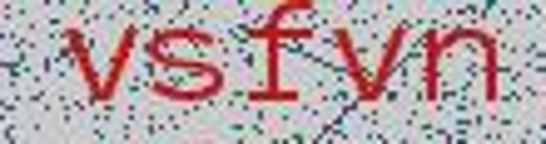f: (236, 2, 320, 115)
n: (417, 13, 504, 120)
s: (145, 21, 227, 109)
v: (328, 13, 406, 115), (60, 19, 138, 107)
